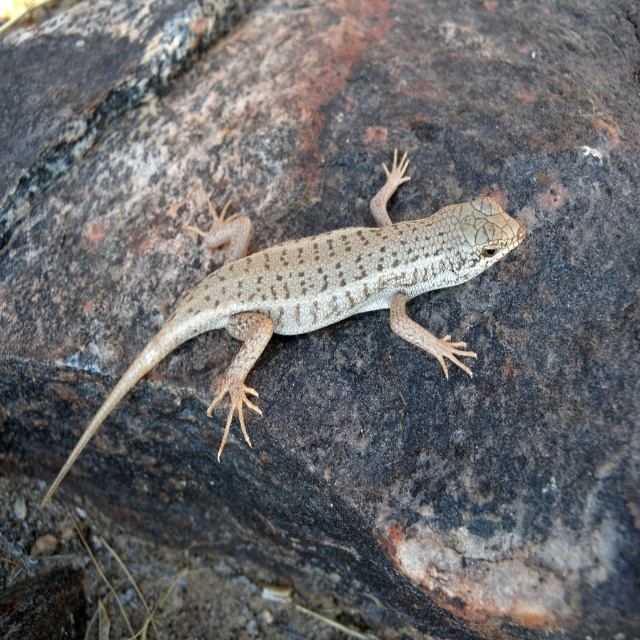Lizard: (38, 152, 524, 507)
